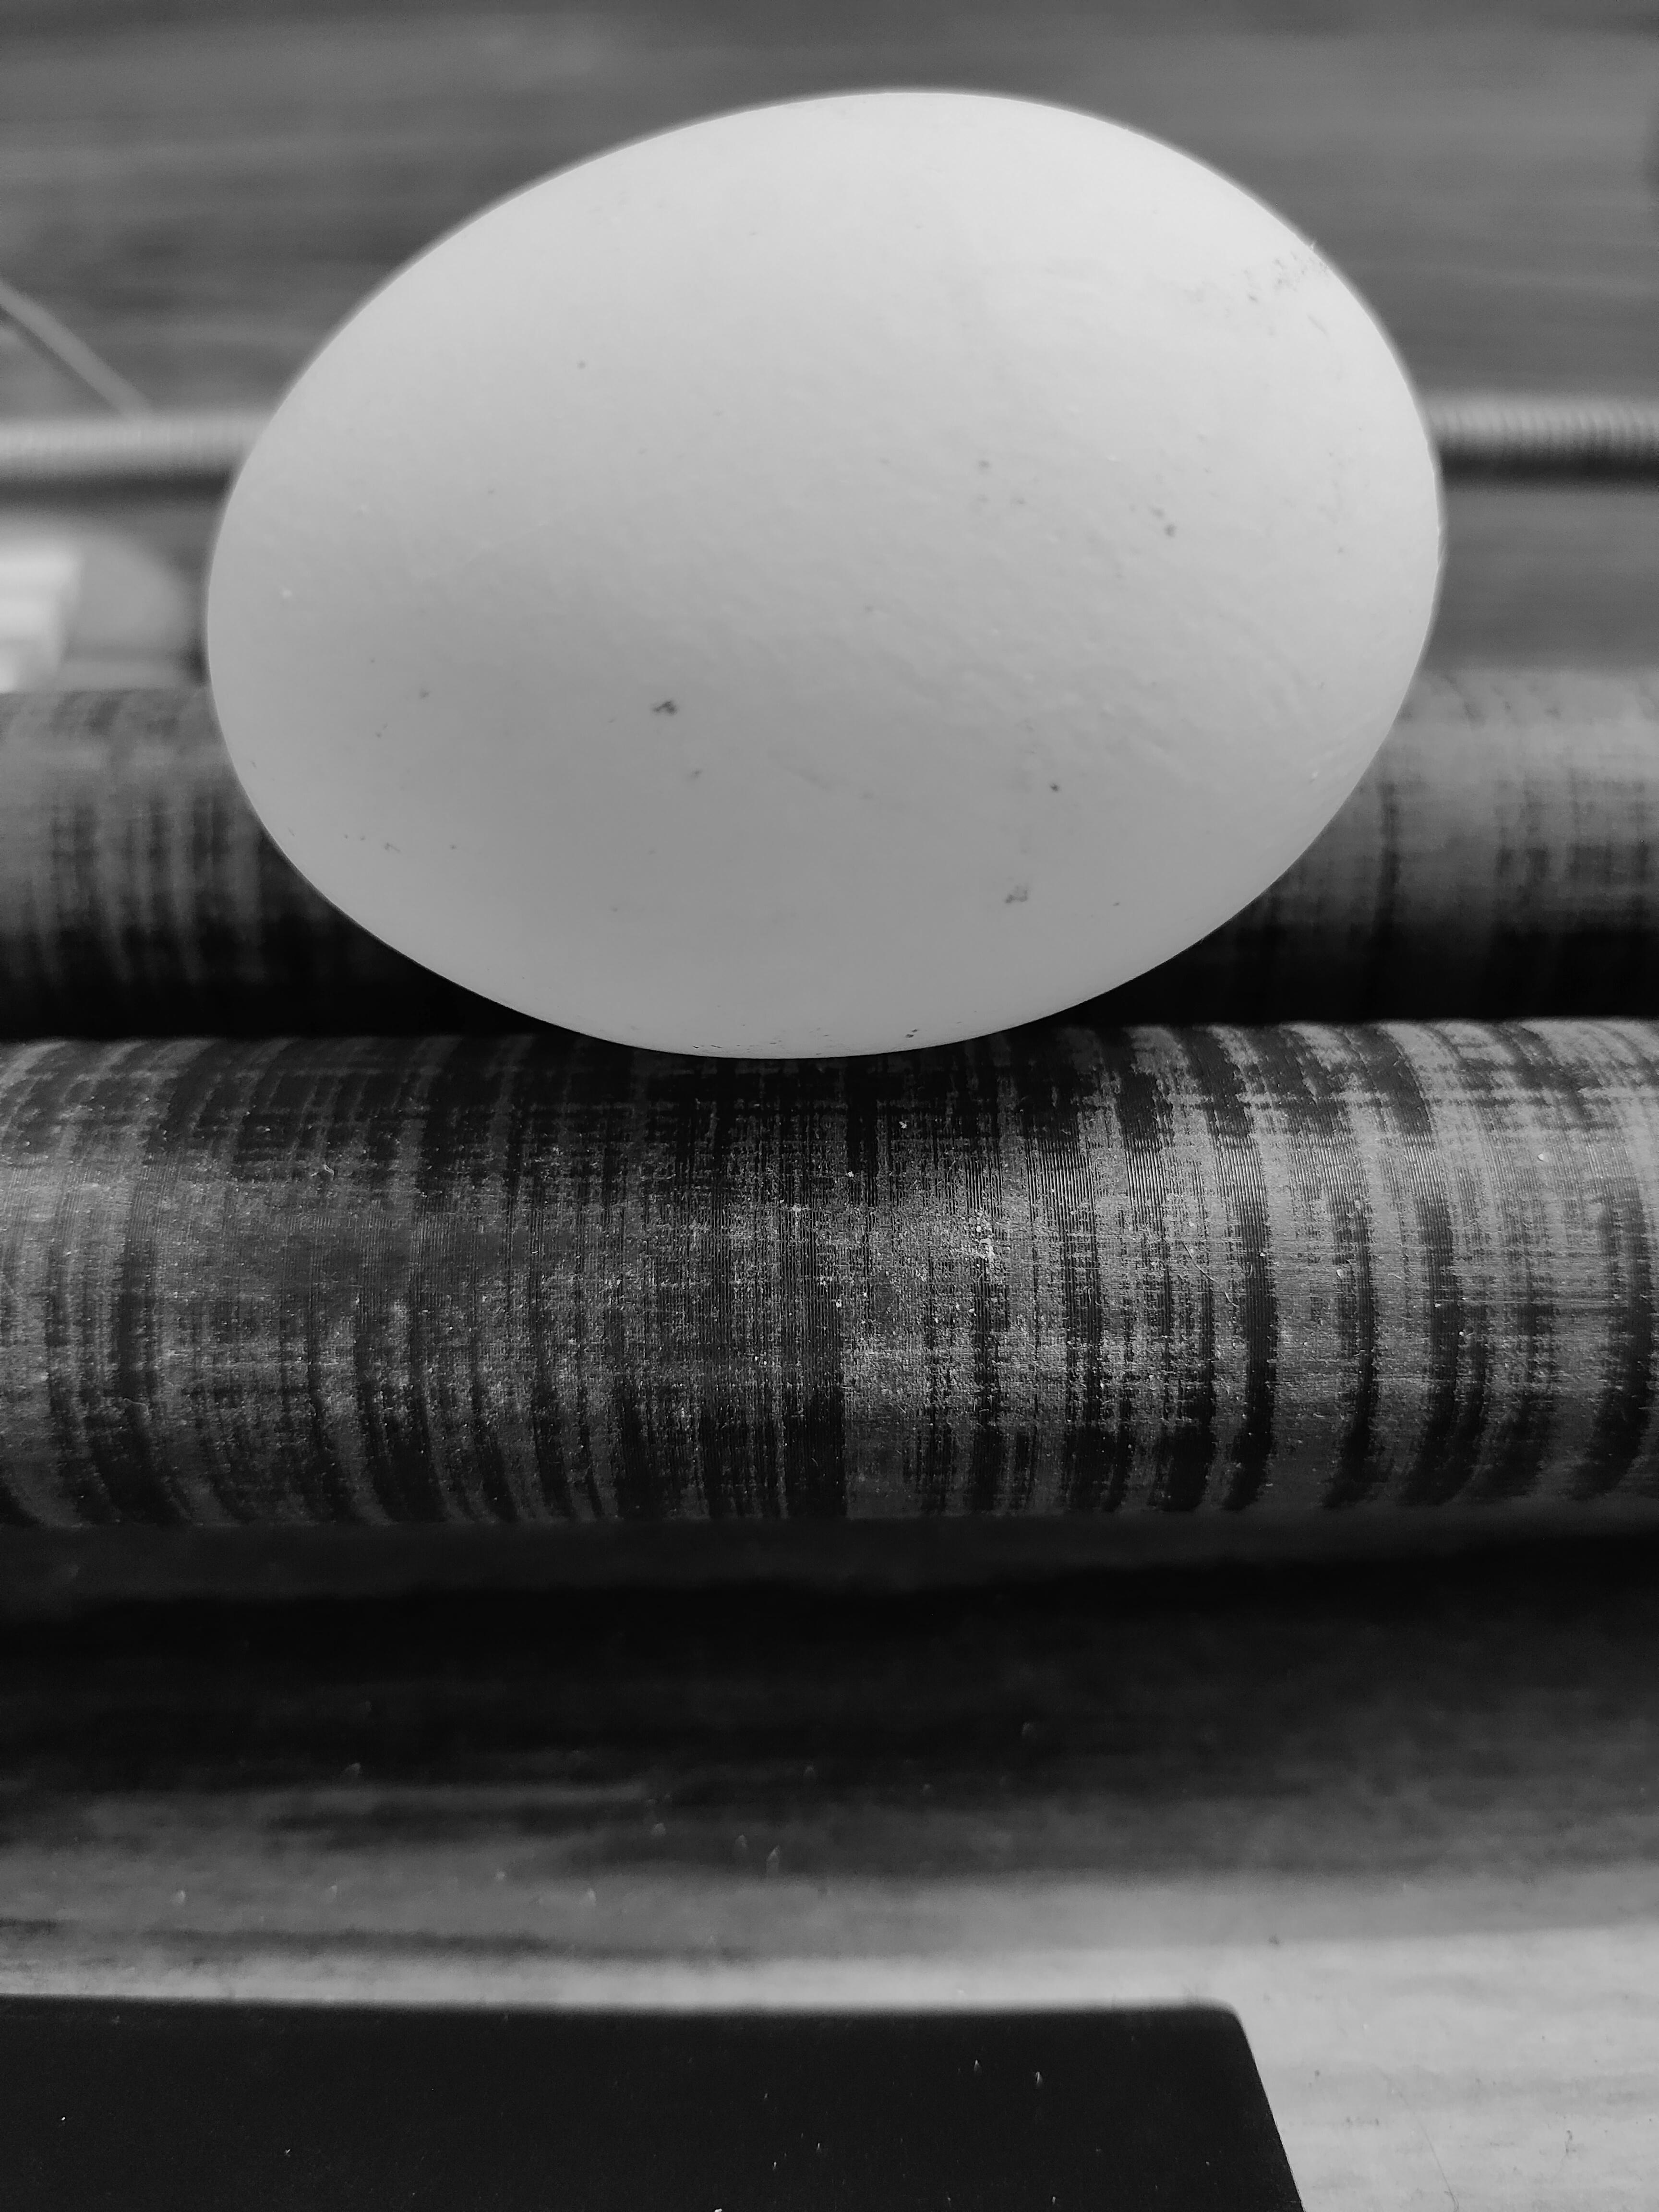telur: (148, 59, 1471, 1076)
